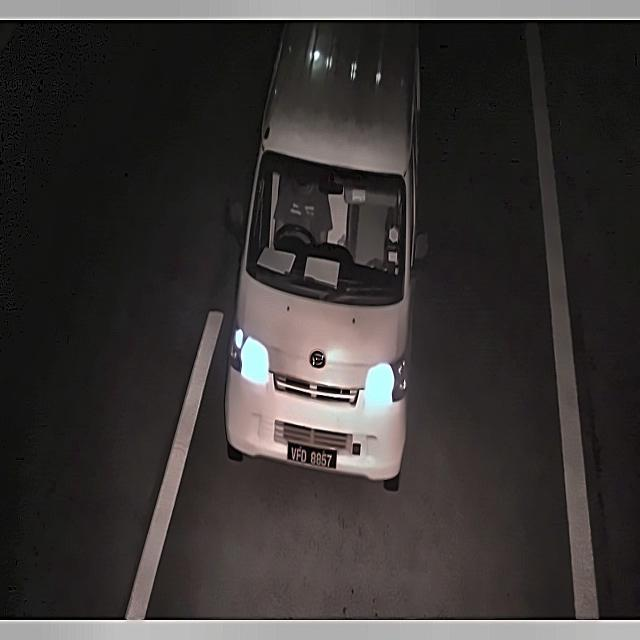car: (287, 437, 338, 481)
